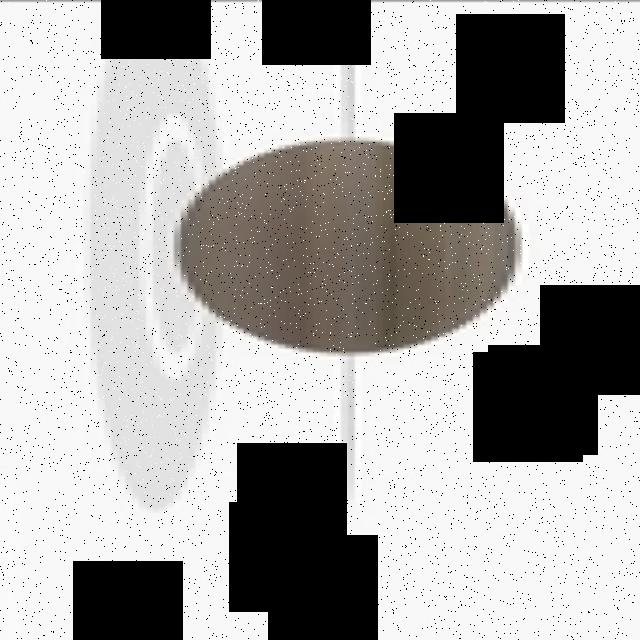Mars: (174, 0, 529, 507)
